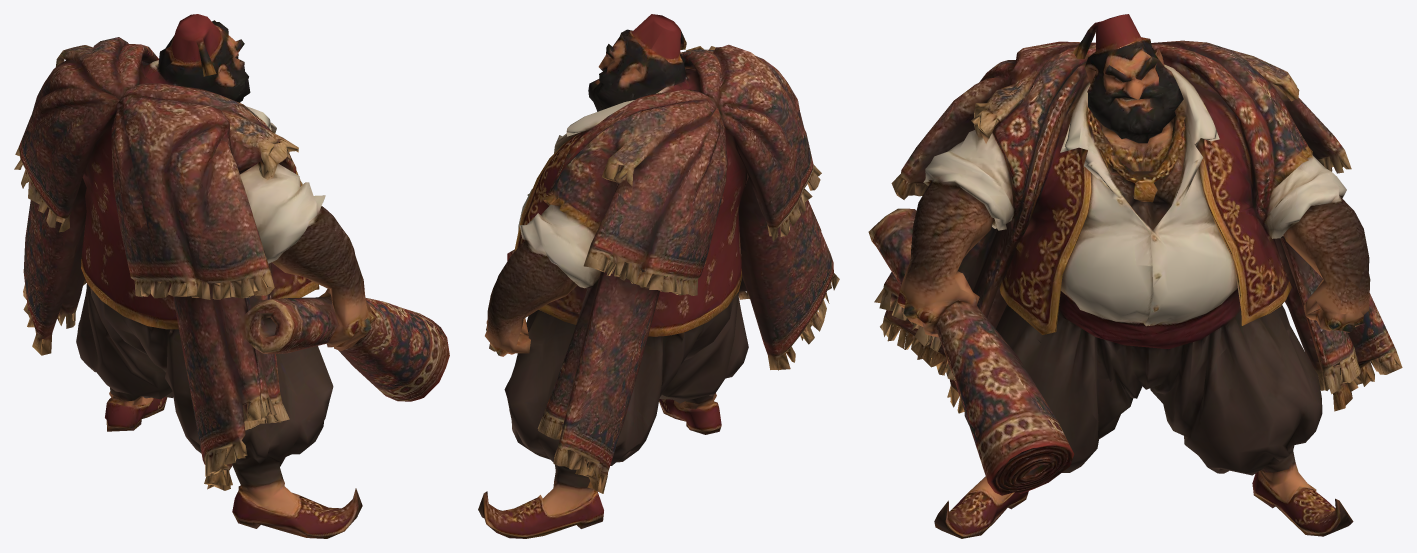
The model's file is stage2.glb.
The picture shows the model from 3 angles, left to right: view 1: azimuth 30°, elevation 25°; view 2: azimuth 150°, elevation 25°; view 3: azimuth 270°, elevation 25°; orthographic projection. The views are drawn at different scales.
Visible parts, largest first — view 1: tripo_node_5d7666dc-621c-4200-abb2-a8988a91842e; view 2: tripo_node_5d7666dc-621c-4200-abb2-a8988a91842e; view 3: tripo_node_5d7666dc-621c-4200-abb2-a8988a91842e.
Boxes of the visible parts, bbox=[...] form: tripo_node_5d7666dc-621c-4200-abb2-a8988a91842e: bbox=[14, 14, 449, 538]; tripo_node_5d7666dc-621c-4200-abb2-a8988a91842e: bbox=[478, 14, 839, 538]; tripo_node_5d7666dc-621c-4200-abb2-a8988a91842e: bbox=[868, 14, 1402, 538].
Bounding box in the file's own units: 0.6685 × 1 × 0.9811.
Materials: 1 (1 with a texture image).
